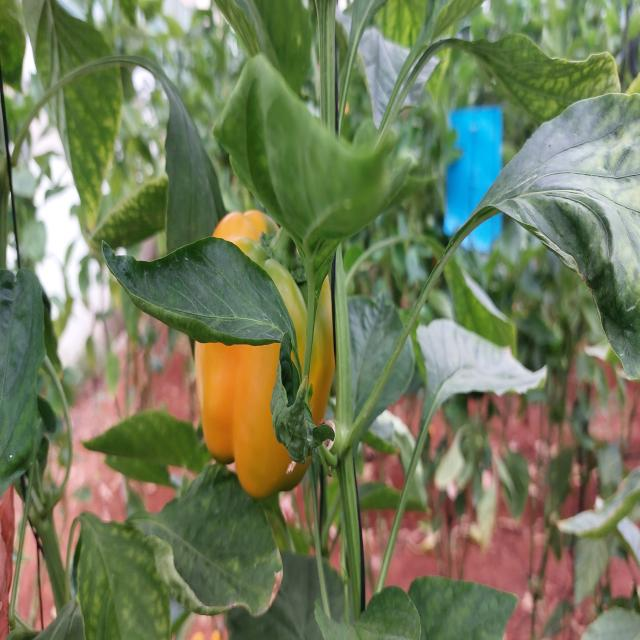Yellow-Ready-to-Harvest: (195, 210, 336, 496)
